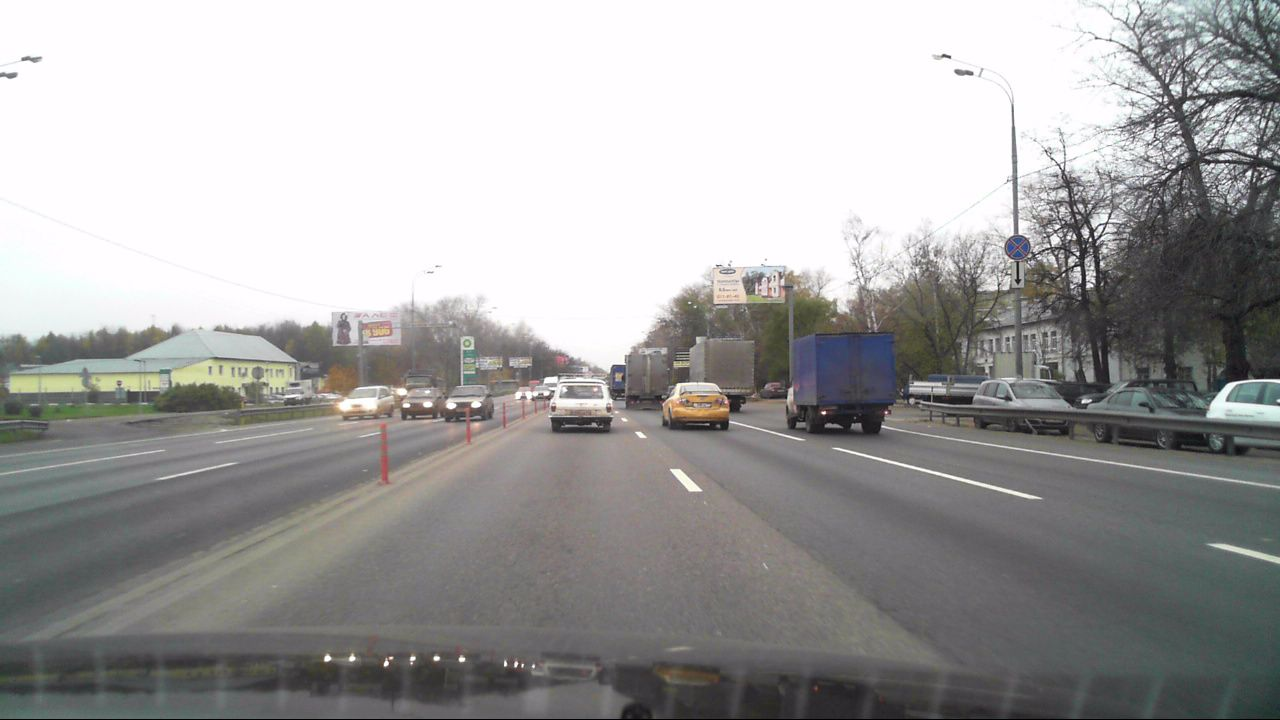No Parking: (1004, 234, 1030, 261)
